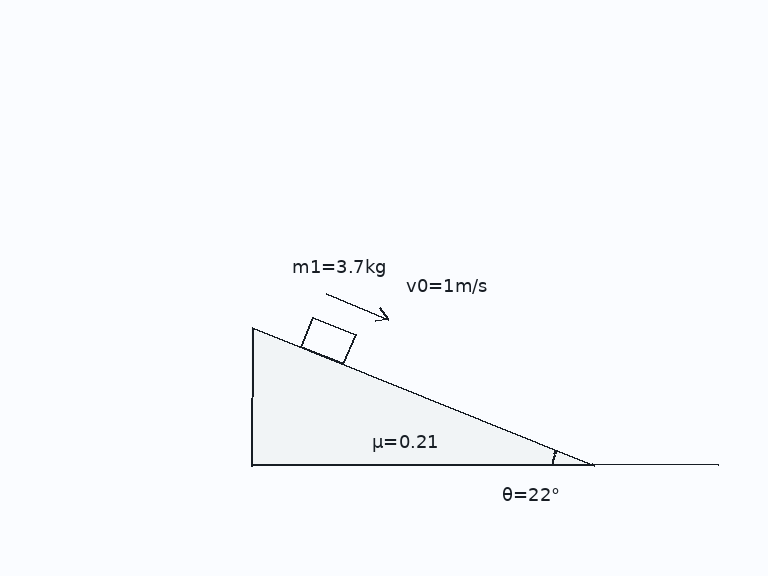block: (299, 315, 356, 366)
ramp: (250, 325, 595, 467)
